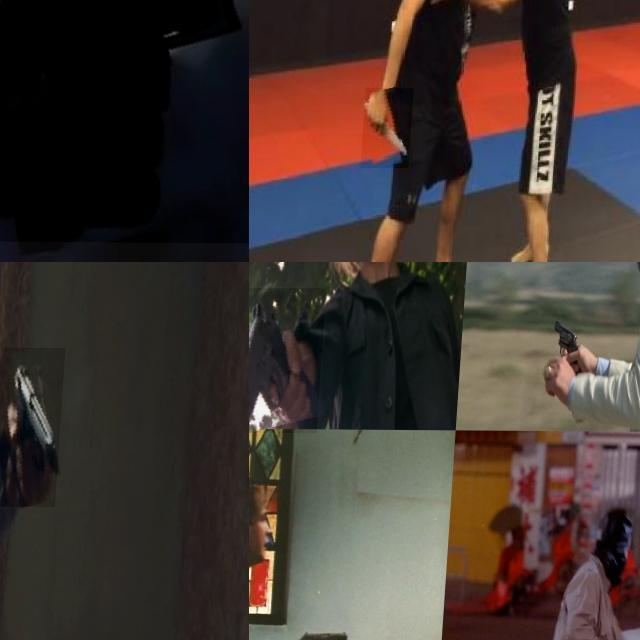-: (368, 88, 420, 168)
gun-knife-thesis - v11 Yolov5 augmented: (0, 0, 249, 243), (249, 287, 328, 432), (0, 347, 67, 506), (552, 320, 589, 376), (297, 625, 355, 640)
